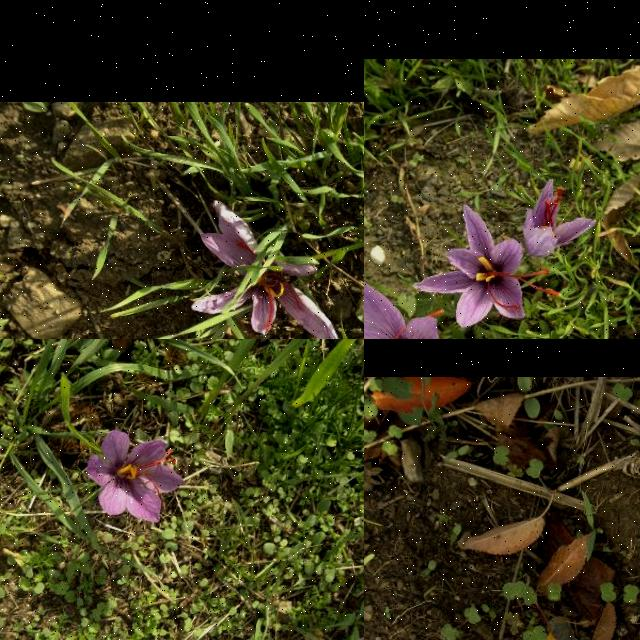flower: (191, 200, 341, 339), (412, 204, 560, 330), (86, 431, 184, 523), (364, 277, 468, 339), (522, 178, 598, 258)
